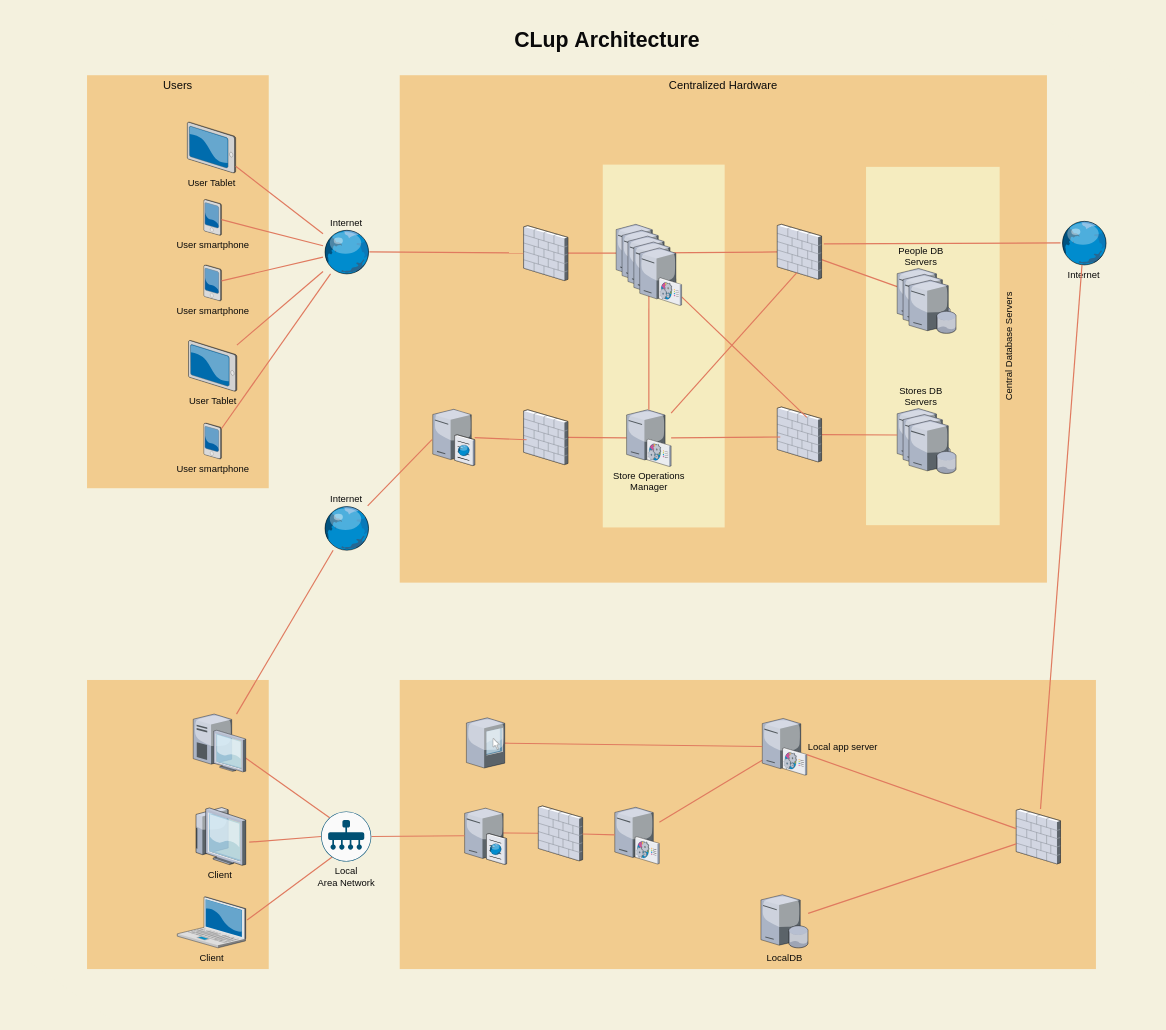
Some shapes in this 1166 by 1030 pixel diagram are drawn without their labels. Here are the shapes that lost their labels. From the top down, the box of each, then its label:
(639, 248, 681, 305): App servers
(603, 164, 724, 527): Frontend Servers
(432, 408, 474, 465): Central Web Server
(193, 714, 245, 772): Store Manager Client
(466, 718, 504, 768): Totem
(87, 680, 268, 969): StaffMembers
(464, 807, 506, 864): Local Web Server
(614, 807, 659, 864): Staff Operations Manager
(399, 680, 1096, 969): Local Hardware
